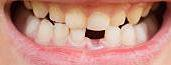Hypodontia: (85, 27, 106, 44)
